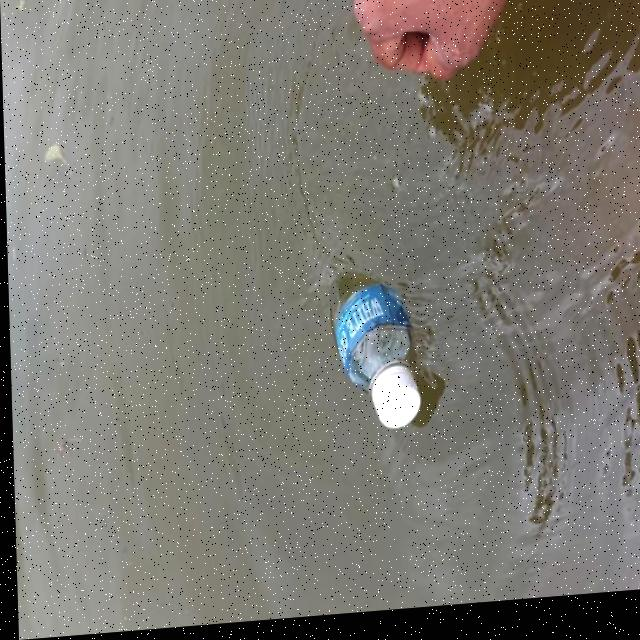waterbottle: (289, 234, 455, 455)
